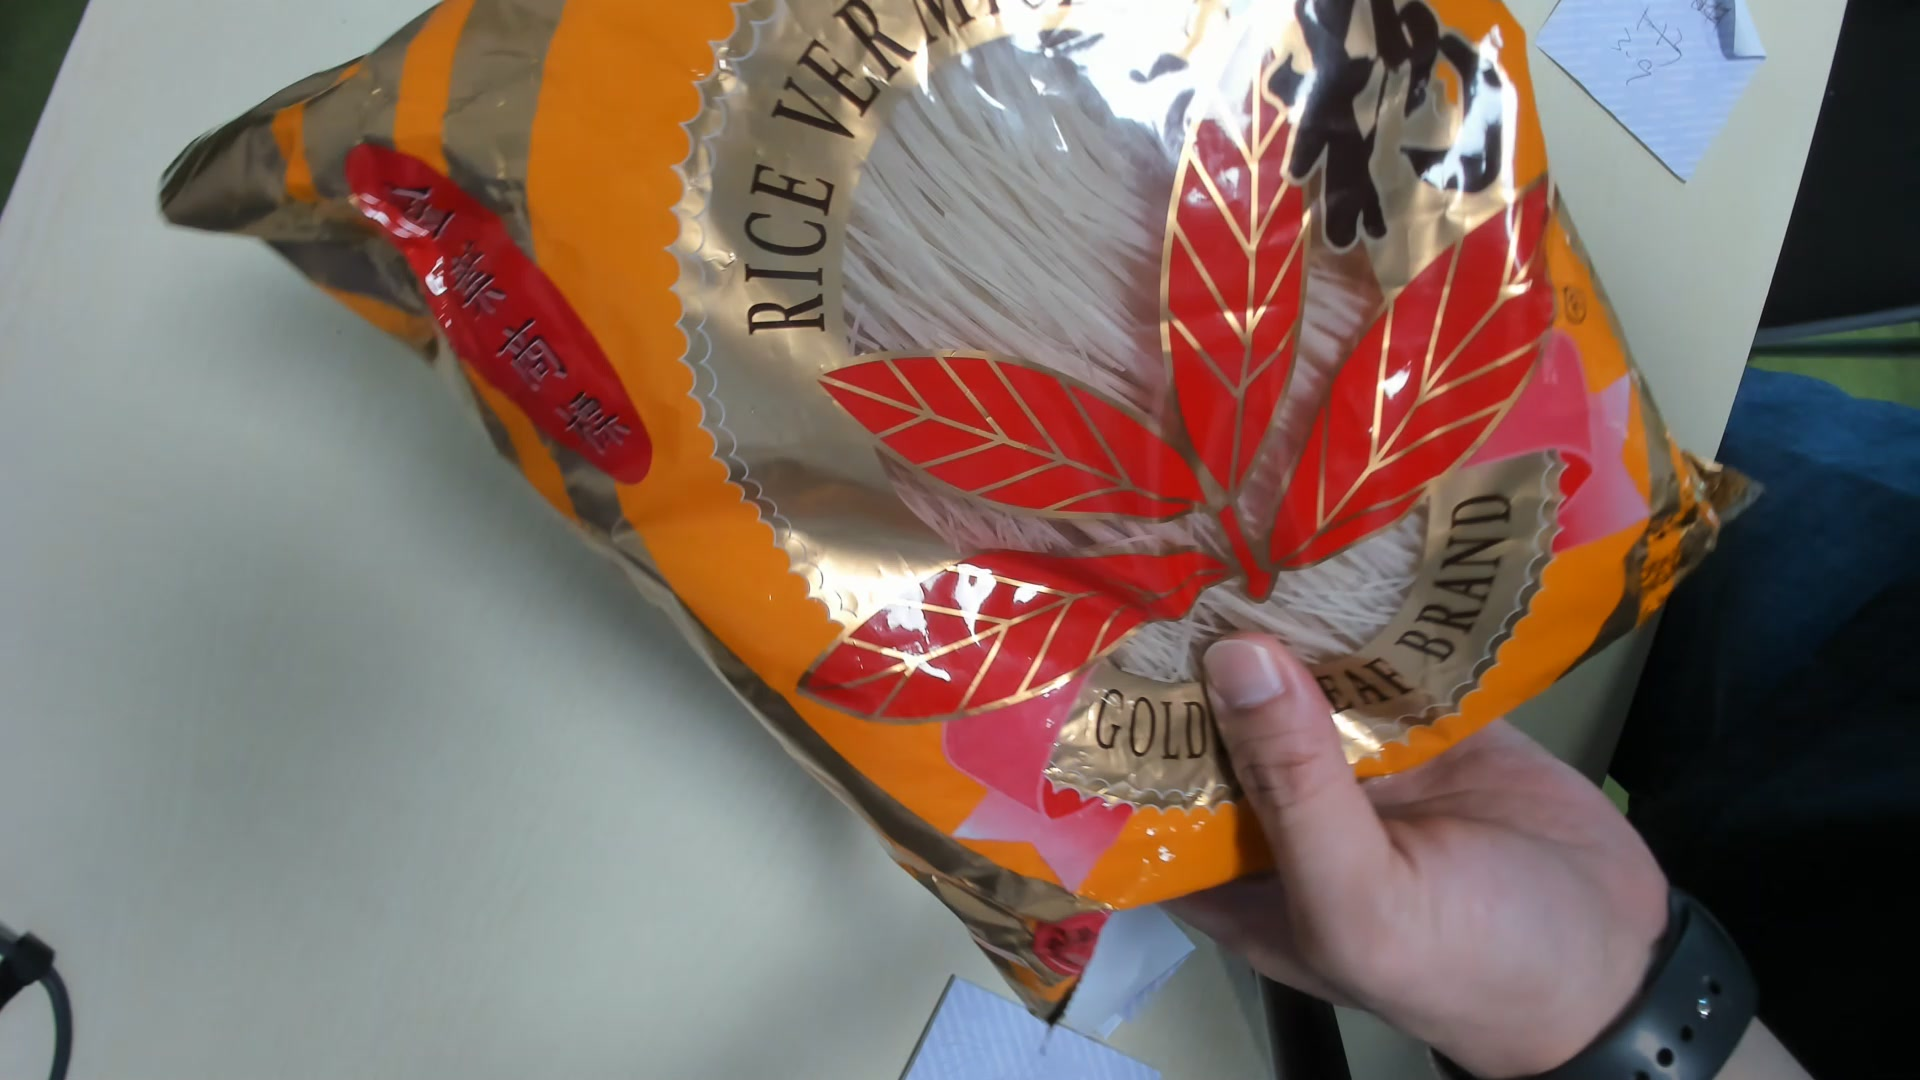OtherNoodles_400-499g_Halal_NonHealthy: (141, 1, 1724, 1029)
